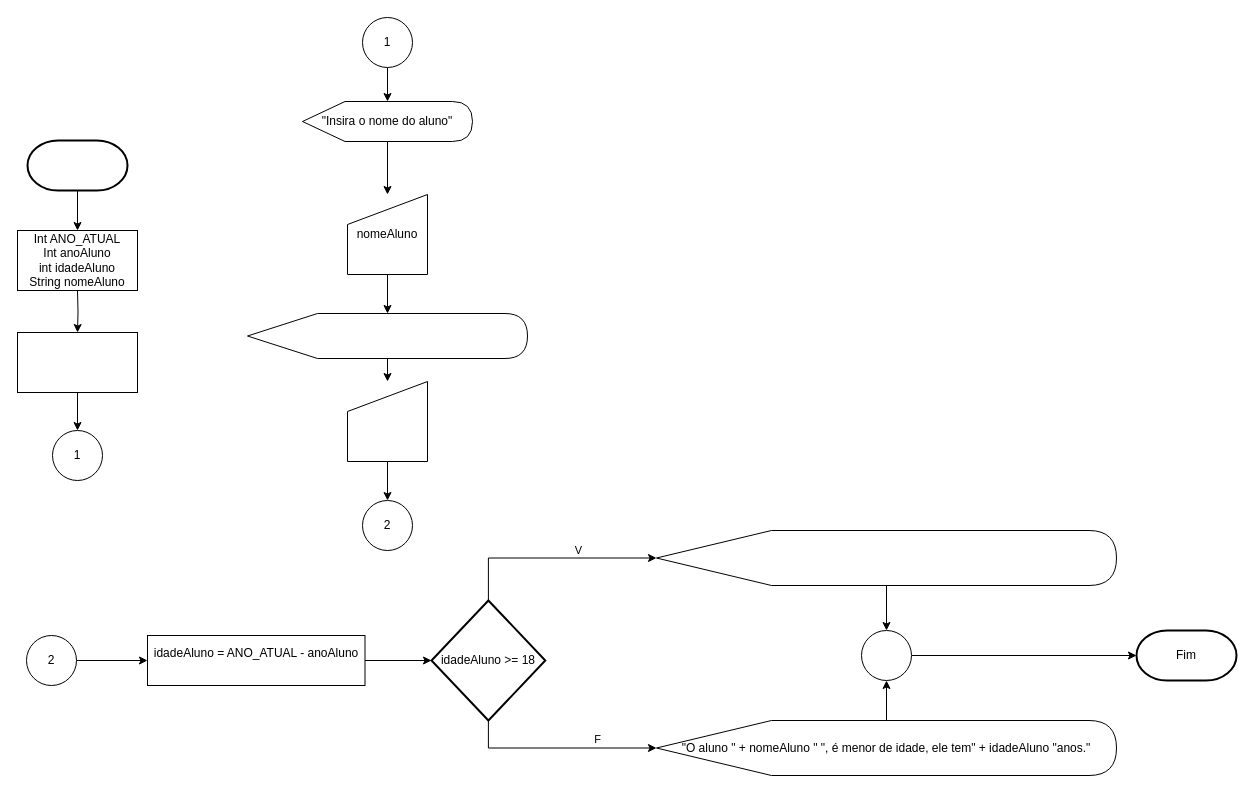
The diagram is 1255 pixels wide and 793 high, and some of its shapes have lost their labels. The box of each missing label's shape, as (x1, y1, x2, y2) in pixels:
"Insira o ano de nascimento do aluno": (246, 312, 528, 358)
"O aluno " + nomeAluno " ", é maior de idade, ele tem" + idadeAluno "anos.": (656, 530, 1116, 586)
ANO_ATUAL = 2025 anoAluno = 0 idadeAluno = 0 nomeAluno = "": (16, 332, 138, 392)
anoAluno: (346, 380, 428, 462)
Inicio: (26, 139, 128, 191)
